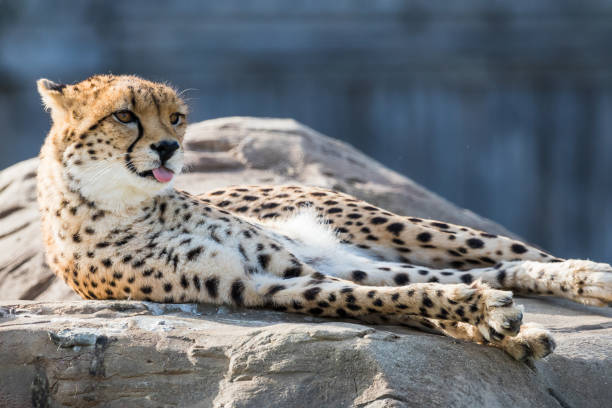cheetah: (14, 65, 199, 220)
